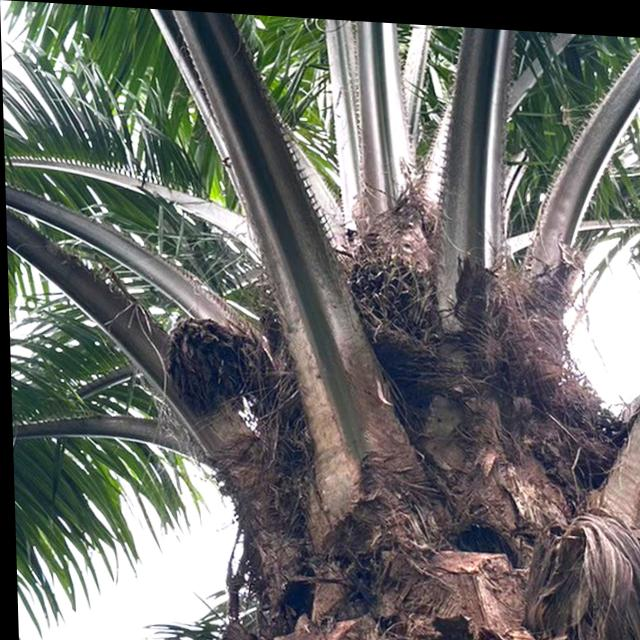unripe: (338, 239, 450, 371)
